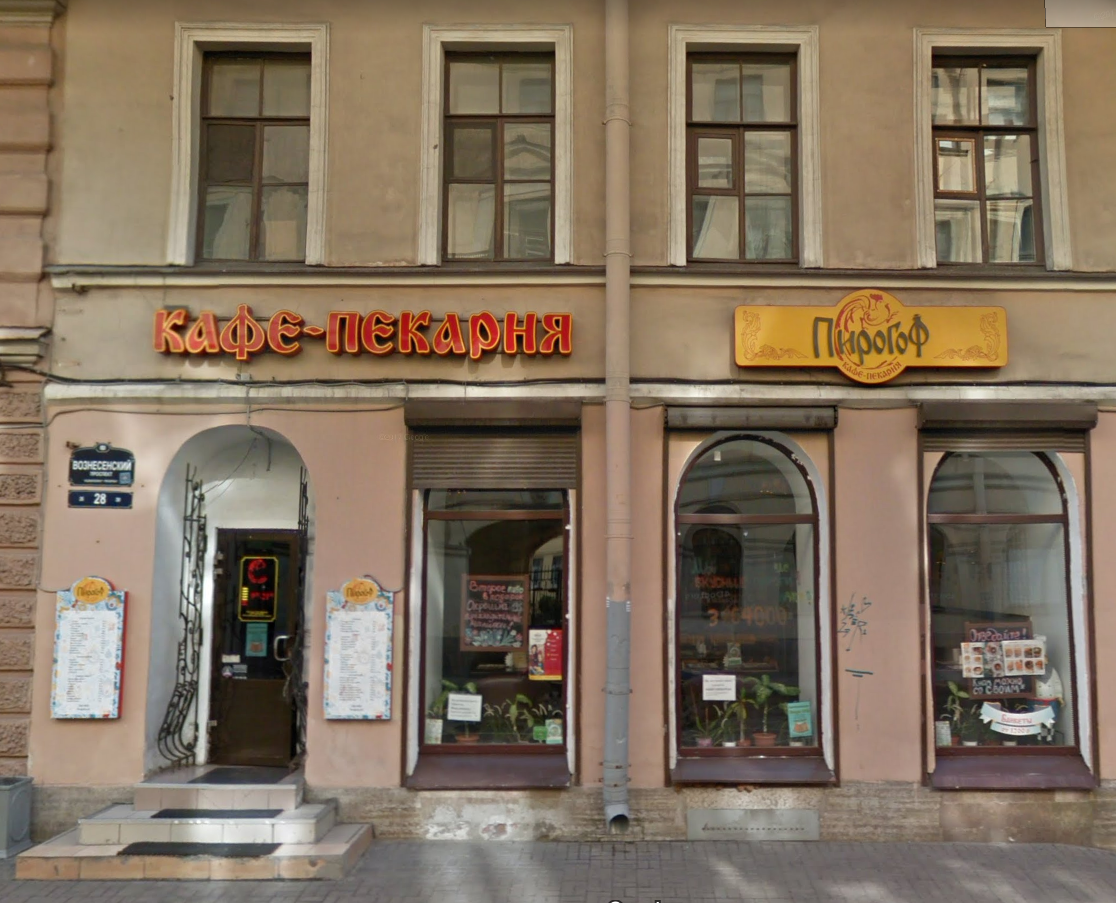door: (213, 530, 296, 770)
signboard: (718, 284, 1023, 394), (141, 298, 589, 364)
window: (665, 516, 824, 752), (422, 499, 561, 753), (925, 519, 1073, 746), (930, 49, 1051, 273), (684, 39, 799, 263), (195, 46, 300, 260), (449, 47, 550, 261)
